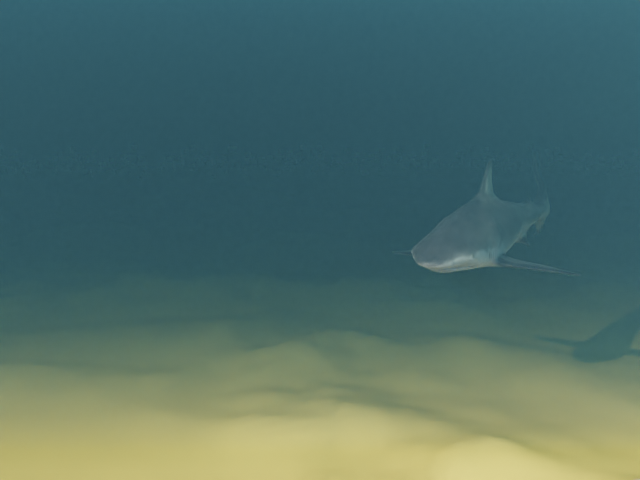Carribean Shark.001: (391, 153, 581, 275)
